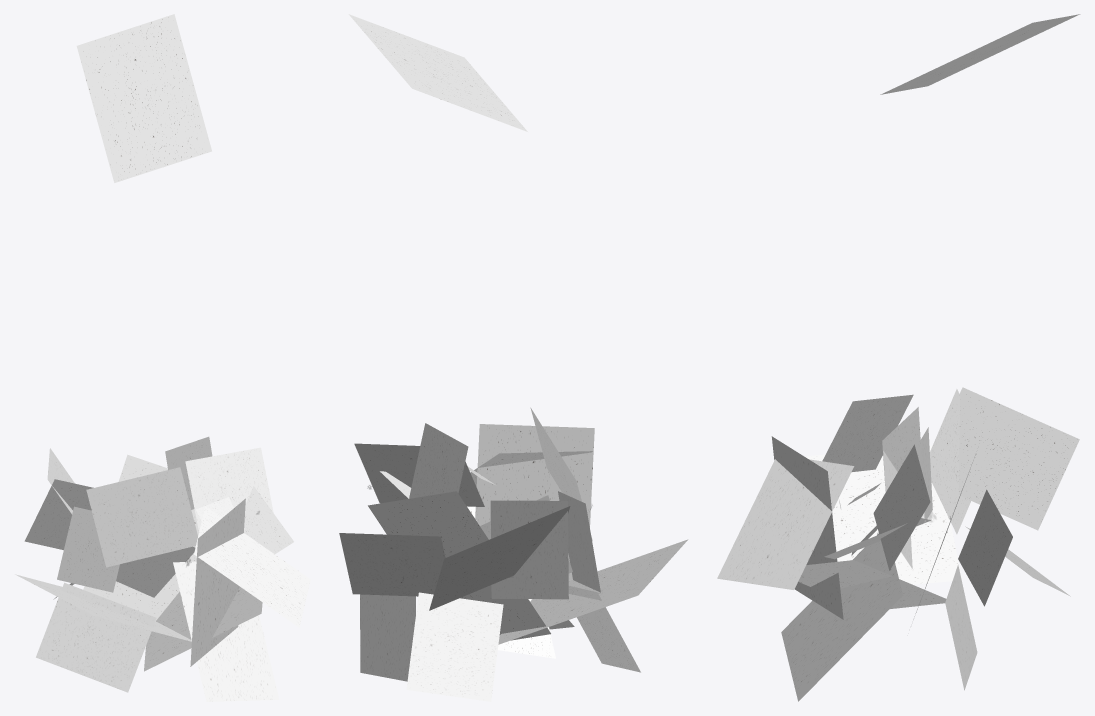
Rendered from dust2.gltf.
3 views of the same model, side by side, from view 1: azimuth 30°, elevation 25°; view 2: azimuth 150°, elevation 25°; view 3: azimuth 270°, elevation 25° (orthographic). The views are drawn at different scales.
Visible parts, largest first — view 1: image.009, image.005, image.010, image.006, image.002, image.012, image.015, image.038, image.003, image.008, image.001, image.037 (+4 smaller); view 2: image.007, image.012, image.001, image.009, image.041, image.008, image.004, image.011, image.026, image.015, image.033, image.010 (+4 smaller); view 3: image.004, image.002, image.006, image.026, image.005, image.012, image.015, image.041, image.008, image.003, image.009, image.011 (+2 smaller).
Part boxes in pixels (<box>): image.009: <box>76,14,211,182</box>; image.005: <box>86,467,197,567</box>; image.010: <box>36,582,156,692</box>; image.006: <box>173,561,279,701</box>; image.002: <box>194,506,310,627</box>; image.012: <box>190,498,245,666</box>; image.015: <box>185,447,273,531</box>; image.038: <box>57,506,119,592</box>; image.003: <box>144,587,262,671</box>; image.008: <box>24,479,93,549</box>; image.001: <box>83,454,198,621</box>; image.037: <box>116,546,195,597</box>; image.007: <box>406,592,503,701</box>; image.012: <box>475,424,594,581</box>; image.001: <box>368,491,550,640</box>; image.009: <box>348,14,527,131</box>; image.041: <box>339,533,445,596</box>; image.008: <box>490,500,568,599</box>; image.004: <box>429,506,570,610</box>; image.011: <box>360,594,415,681</box>; image.026: <box>498,539,688,644</box>; image.015: <box>354,443,484,506</box>; image.033: <box>409,423,468,498</box>; image.010: <box>568,586,640,672</box>; image.004: <box>931,387,1079,530</box>; image.002: <box>717,459,854,589</box>; image.006: <box>781,533,902,701</box>; image.026: <box>804,445,961,584</box>; image.005: <box>822,394,913,472</box>; image.012: <box>771,436,843,619</box>; image.015: <box>873,444,930,570</box>; image.041: <box>958,489,1012,606</box>; image.008: <box>930,389,970,534</box>; image.003: <box>798,560,946,608</box>; image.009: <box>880,14,1080,94</box>; image.011: <box>945,564,977,690</box>.
Bounding box in the file's own units: 29.33 × 69.75 × 33.87.
Materials: 2 (2 with a texture image).
